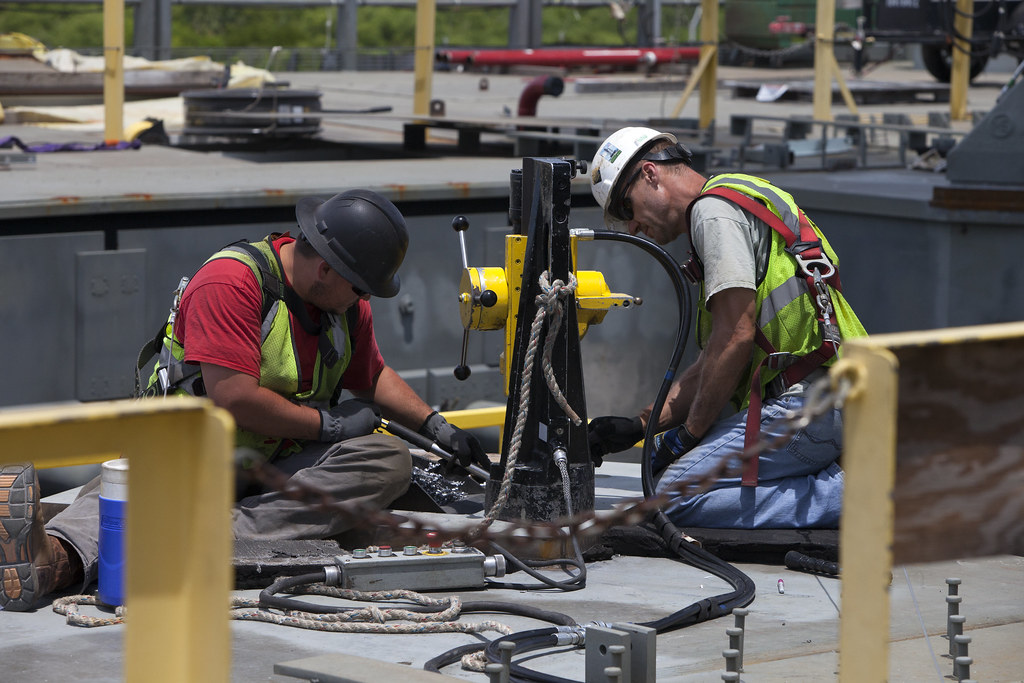Hard Hat: (286, 189, 410, 318), (588, 130, 708, 243)
Person: (2, 188, 491, 613), (590, 122, 875, 530)
Vest: (623, 161, 871, 383), (159, 236, 365, 466)
